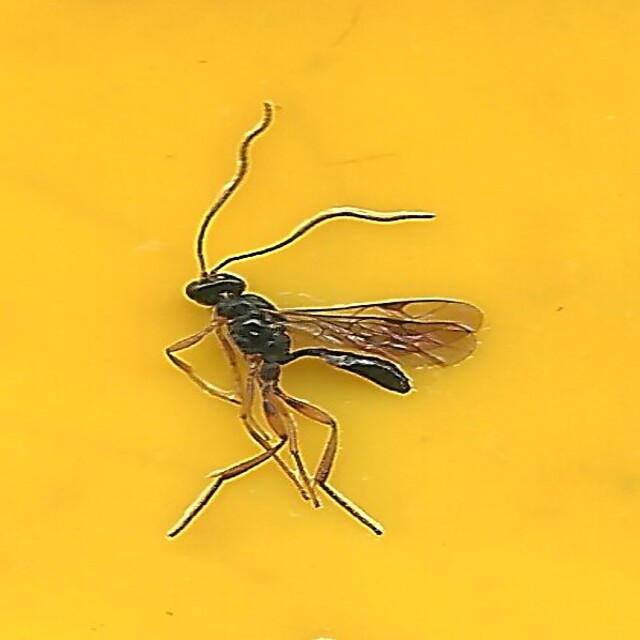Hymenoptera: (152, 107, 488, 533)
